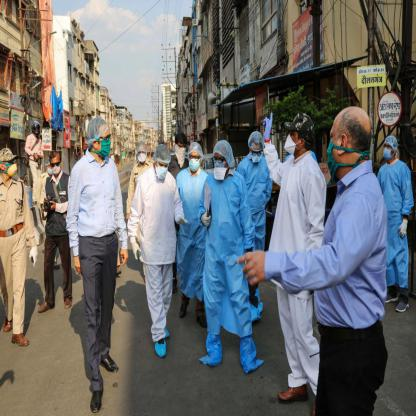Wearing_Mask: (326, 123, 353, 188), (284, 121, 310, 170), (92, 113, 112, 168), (212, 149, 229, 183), (48, 154, 66, 186), (155, 150, 169, 186), (383, 138, 397, 170), (1, 152, 15, 181), (175, 135, 188, 164), (250, 139, 262, 170), (189, 147, 201, 174), (136, 144, 149, 168)
